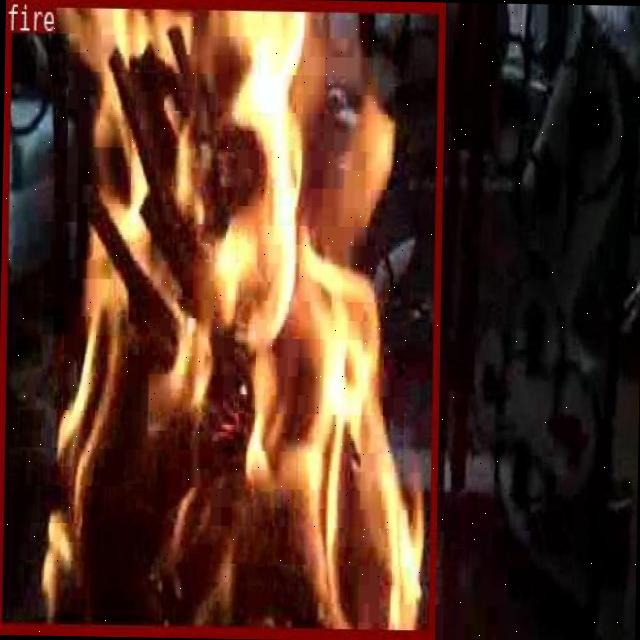fire: (0, 0, 442, 637)
